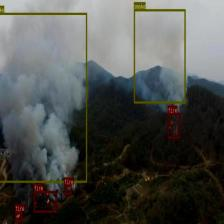fire: (34, 190, 56, 212), (168, 113, 180, 138), (64, 184, 71, 195), (15, 211, 22, 221)
smoke: (0, 13, 87, 182), (134, 9, 186, 103)
